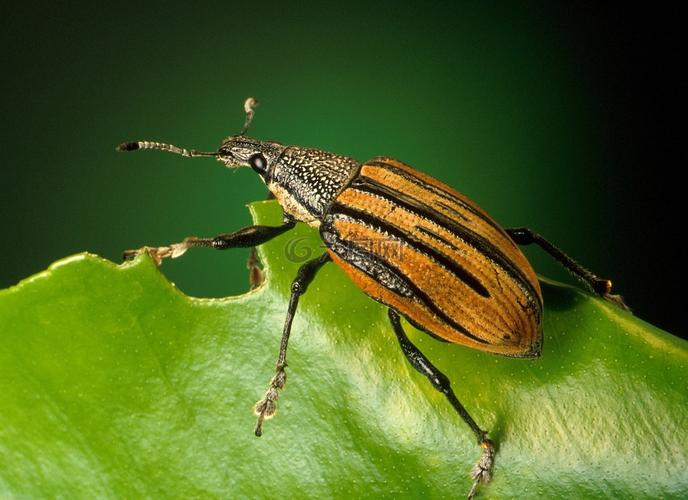Curculionidae: (113, 96, 631, 500)
